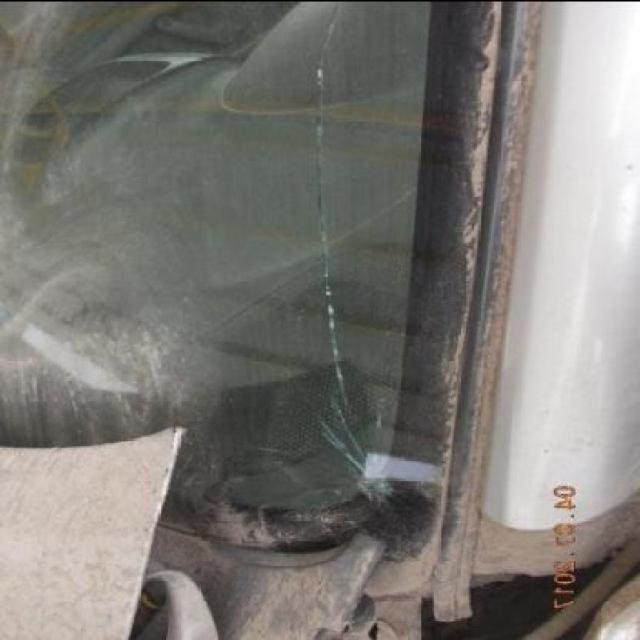damage: (326, 436, 399, 513)
